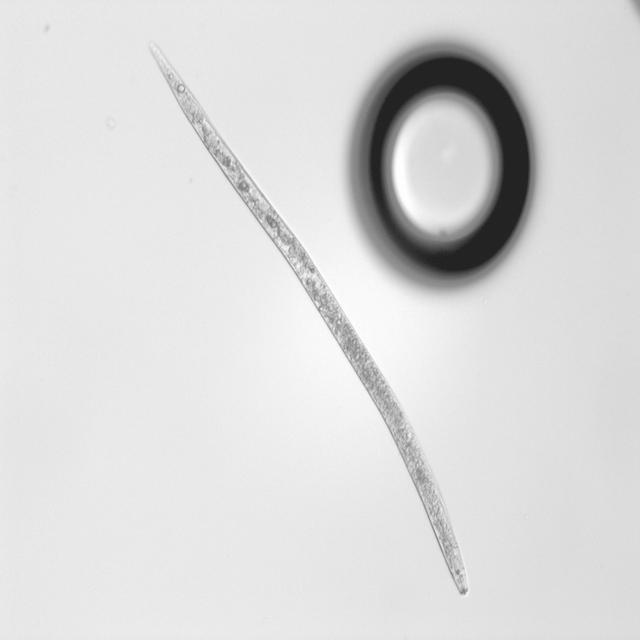Radopholus: (140, 33, 473, 597)
